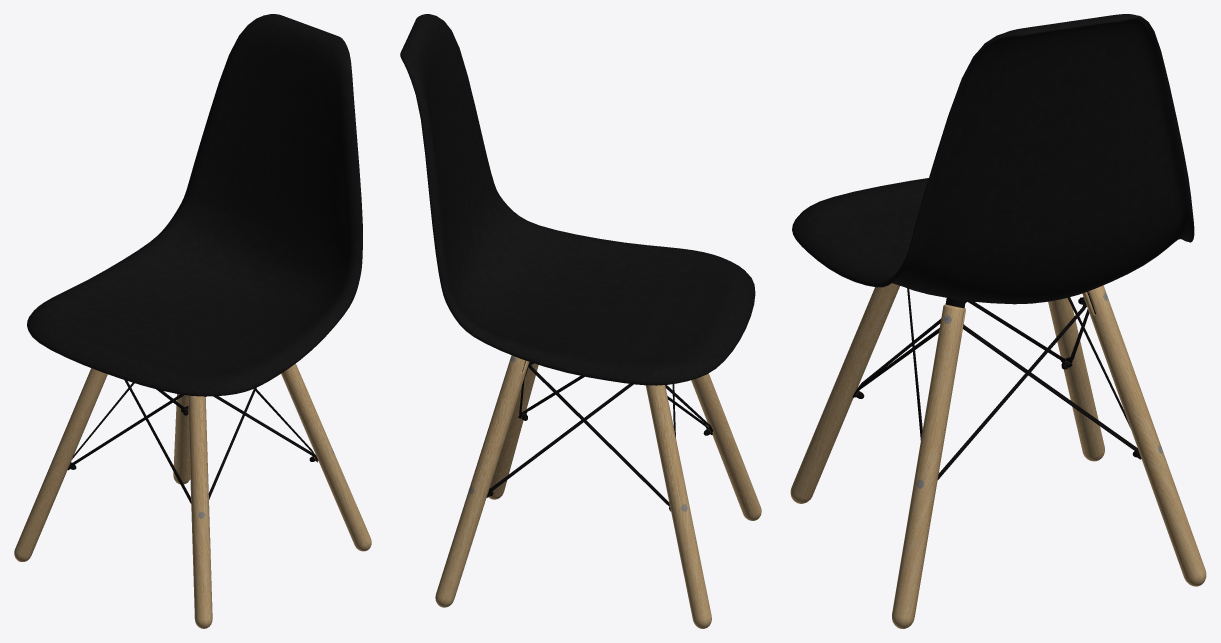
The model's file is DinnerChair.glb.
3 views of the same model, side by side, from view 1: azimuth 30°, elevation 25°; view 2: azimuth 150°, elevation 25°; view 3: azimuth 270°, elevation 25° (orthographic). The views are drawn at different scales.
Parts seen in each view (by area): view 1: Chair; view 2: Chair; view 3: Chair.
Boxes of the visible parts, <box> form: Chair: <box>14,14,371,628</box>; Chair: <box>400,14,761,628</box>; Chair: <box>790,14,1206,628</box>.
Size of the model in its own units: 0.4881 by 0.7412 by 0.4575.
Materials: 1 (1 with a texture image).
